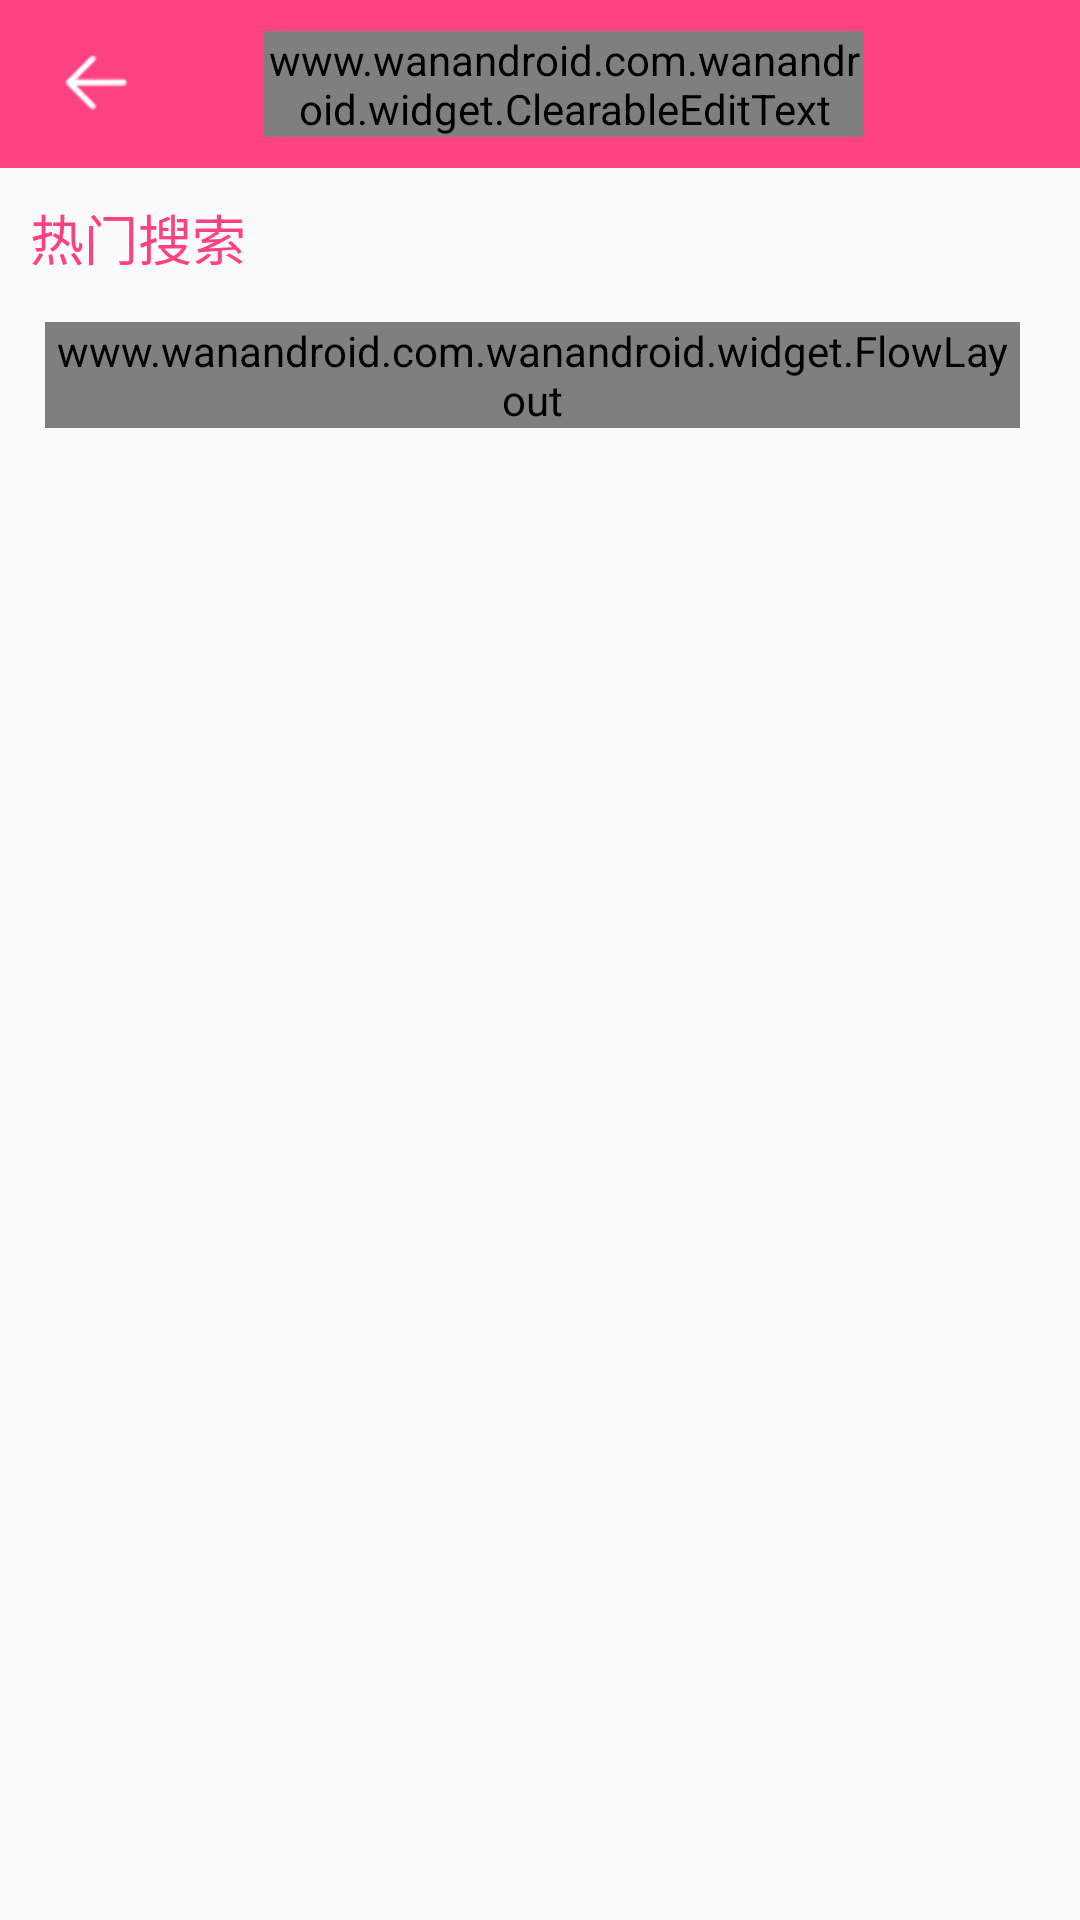

Screen size 1080px×1920px. Icon name, then its box in pixels as (x1, y1, x2, y2):
back: (65, 55, 127, 110)
